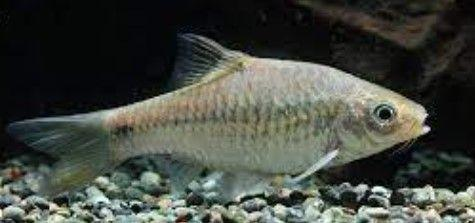Black Spotted Barb: (8, 33, 432, 207)
